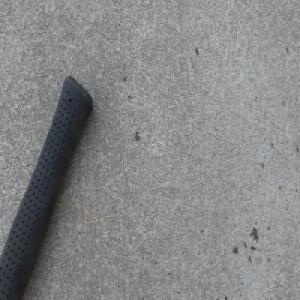Hammer: (0, 71, 95, 300)
